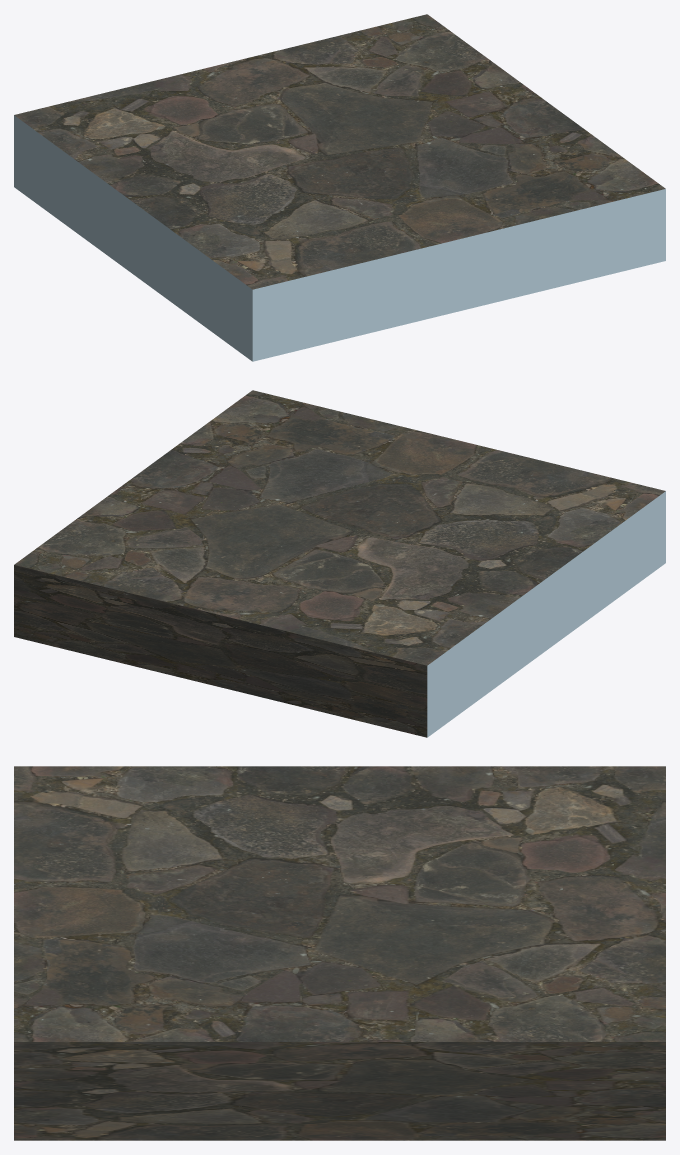
File: auswingsdeckenplatte.glb
The picture shows the model from 3 angles, top to bottom: view 1: azimuth 30°, elevation 25°; view 2: azimuth 150°, elevation 25°; view 3: azimuth 270°, elevation 25°; orthographic projection. The views are drawn at different scales.
Visible parts, largest first — view 1: mesh0_mesh (×3); view 2: mesh0_mesh (×3); view 3: mesh0_mesh (×2).
Boxes of the visible parts, left/top/right/bottom form: mesh0_mesh (×3): left=14, top=14, right=665, bottom=361; mesh0_mesh (×3): left=14, top=390, right=665, bottom=737; mesh0_mesh (×2): left=14, top=766, right=665, bottom=1140.
Size of the model in its own units: 3 by 0.5 by 3.
2 materials, 1 textured.
